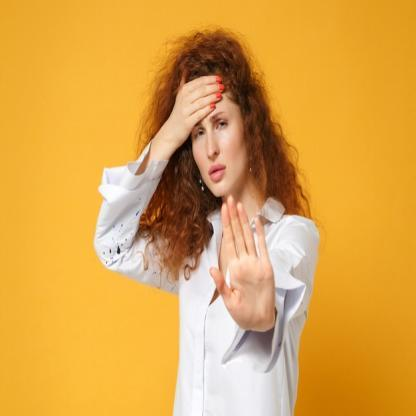stop: (209, 191, 277, 333)
